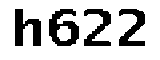2: (81, 5, 114, 53), (115, 9, 148, 54)
6: (47, 6, 81, 50)
h: (9, 7, 44, 52)
